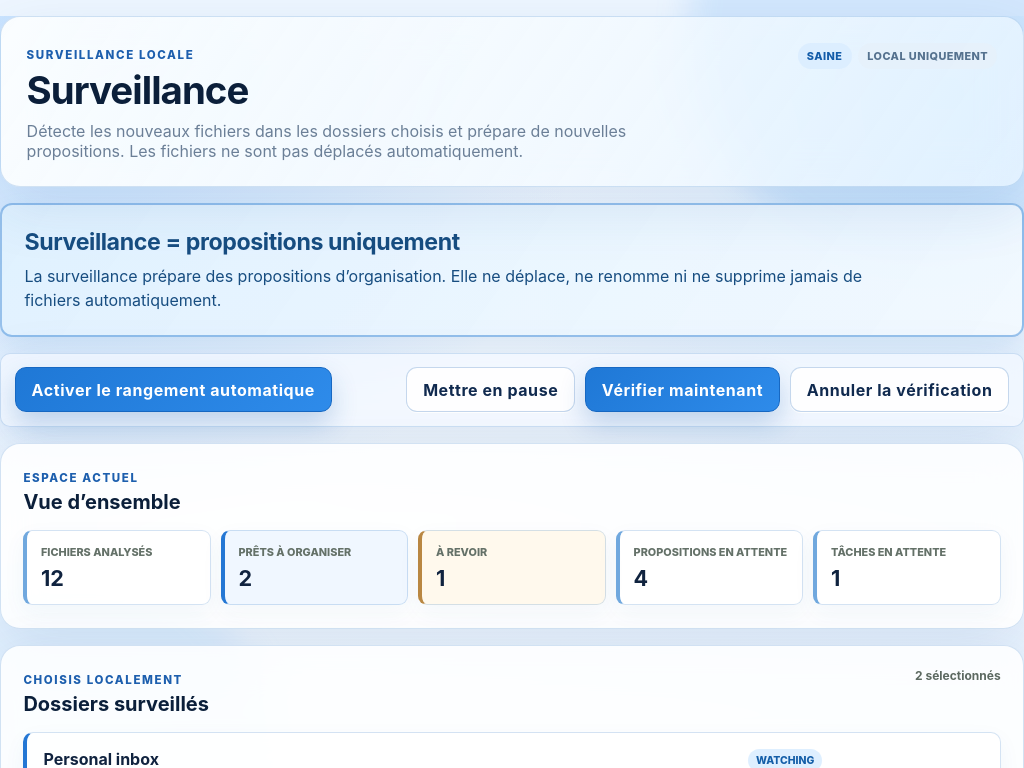
it: Milestone 10 monitoring dashboard › runs and cancels a check while surfacing sanitized command errors
The image size is (1024, 768).
Click the button "Vérifier maintenant": (682, 390) [585,367,780,412]
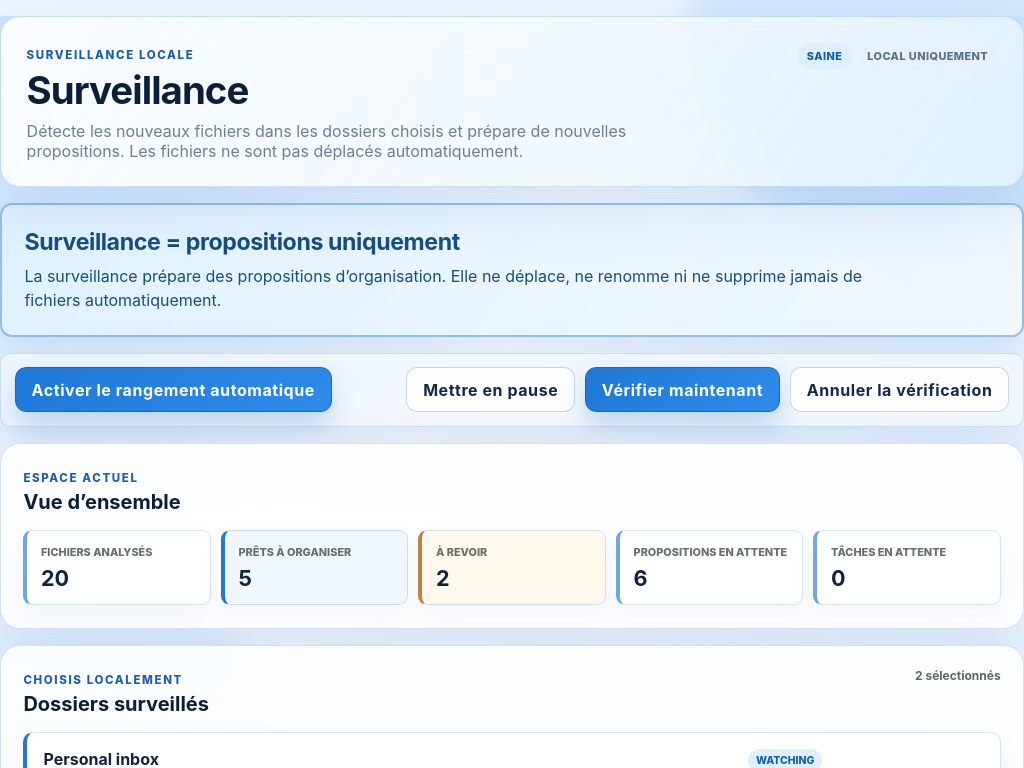
Expected: the element labelled "Fichiers analysés" shows "20", [41,565,69,591]
Click the button "Annuler la vérification": (900, 390) [790,367,1009,412]
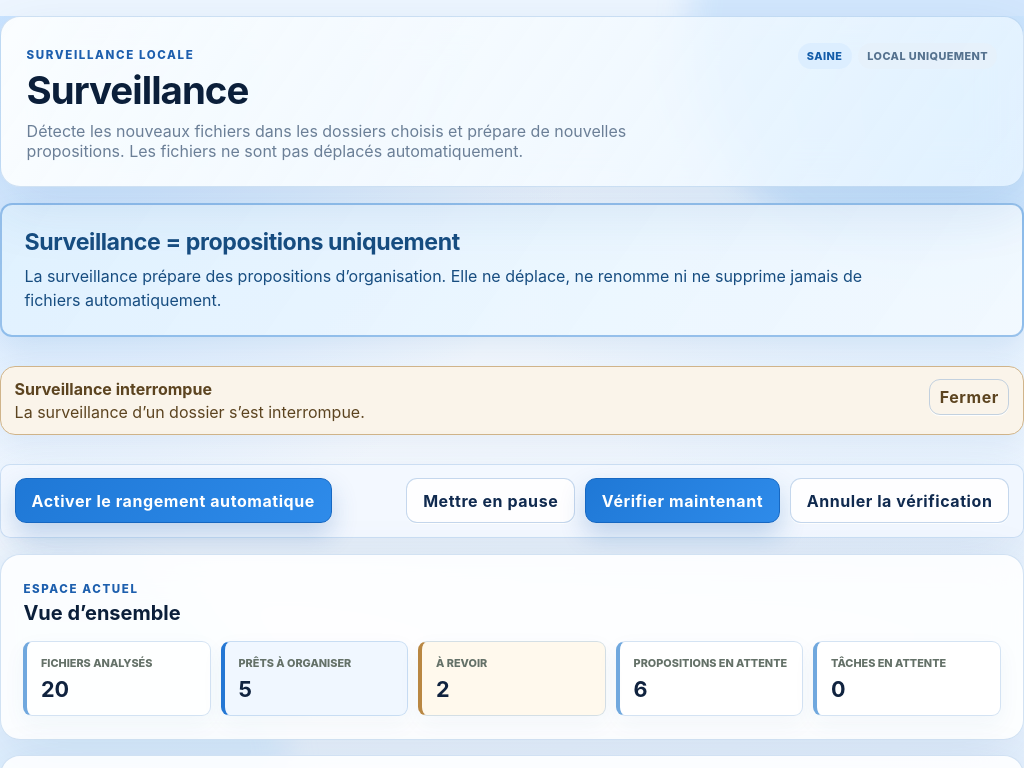
Expected: the text "Surveillance interrompue" is shown, [15,379,212,399]
